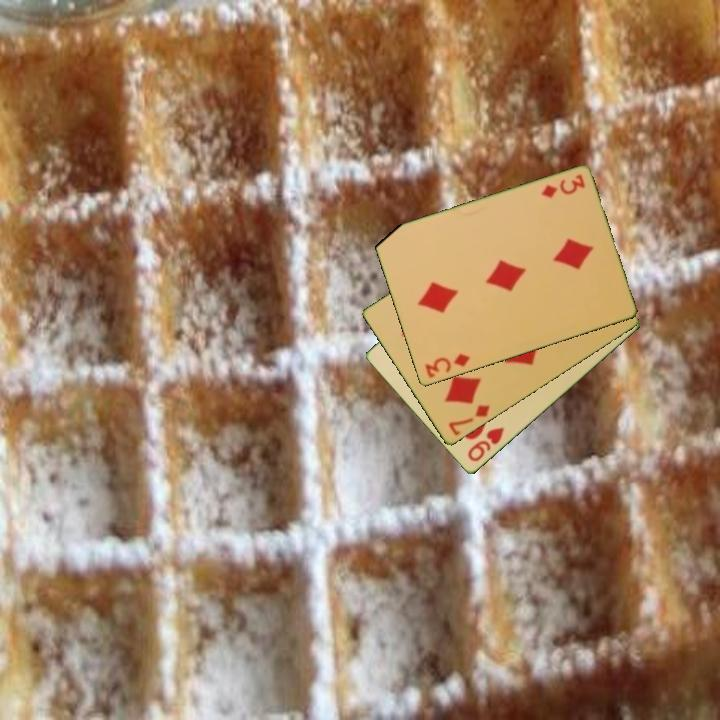3d: (421, 350, 473, 381), (537, 171, 588, 201)
7d: (445, 401, 493, 439)
9h: (464, 424, 507, 465)
